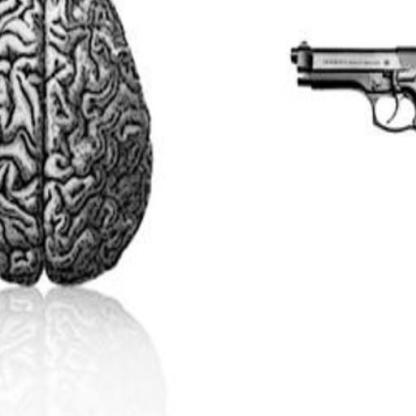gun: (289, 36, 415, 207)
